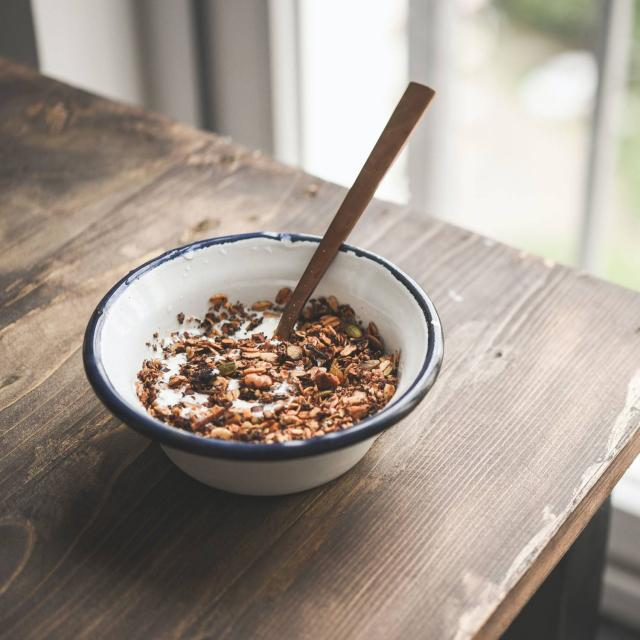avena: (94, 242, 447, 459)
